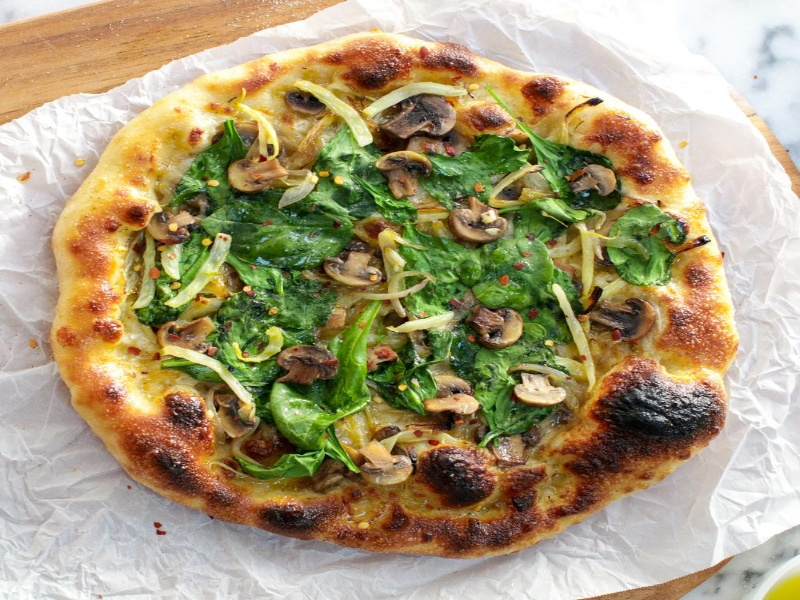champignon: (379, 84, 462, 151), (269, 340, 348, 393), (364, 147, 435, 204), (459, 297, 530, 349), (346, 438, 418, 489), (220, 145, 290, 197), (317, 242, 387, 292), (145, 205, 207, 254), (449, 197, 506, 247), (507, 369, 572, 409), (564, 158, 620, 201)
